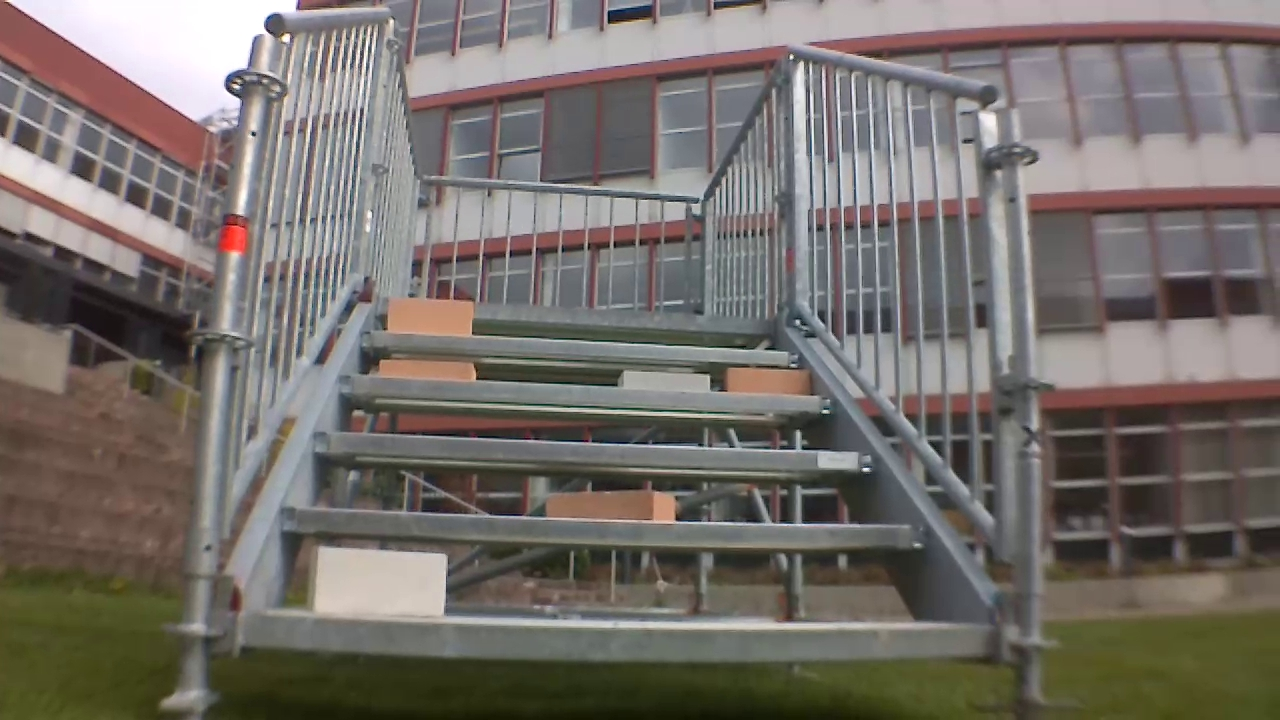brick: (301, 545, 445, 615), (544, 487, 675, 522), (380, 299, 475, 331), (370, 360, 482, 381), (722, 371, 815, 392), (619, 369, 710, 390)
edge: (242, 612, 1017, 648), (282, 510, 932, 541), (307, 431, 890, 461), (332, 380, 840, 412), (384, 295, 774, 326), (358, 329, 808, 355)
stairs: (193, 0, 1036, 709)
steps: (224, 292, 994, 647)
